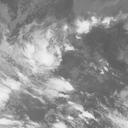cyclone: (17, 30, 71, 92)
